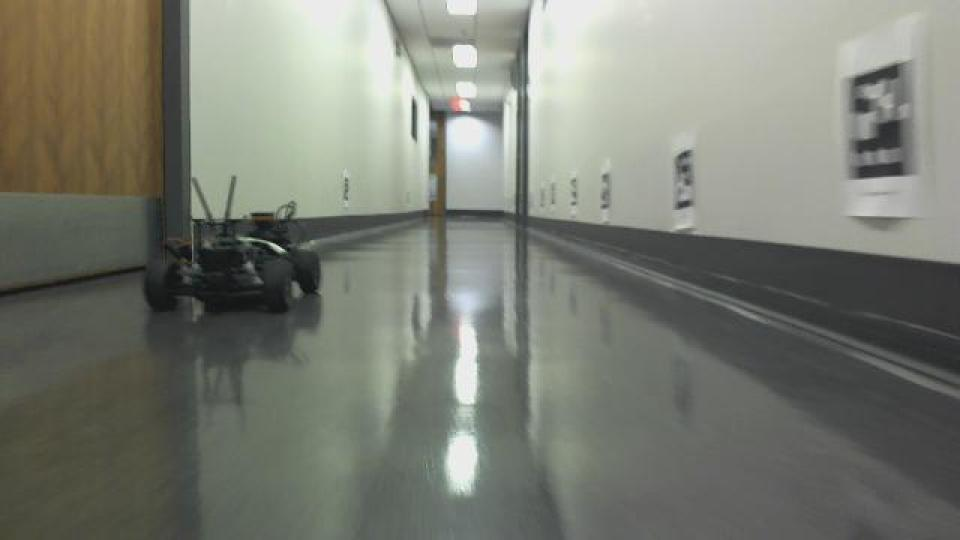car: (140, 172, 324, 318)
